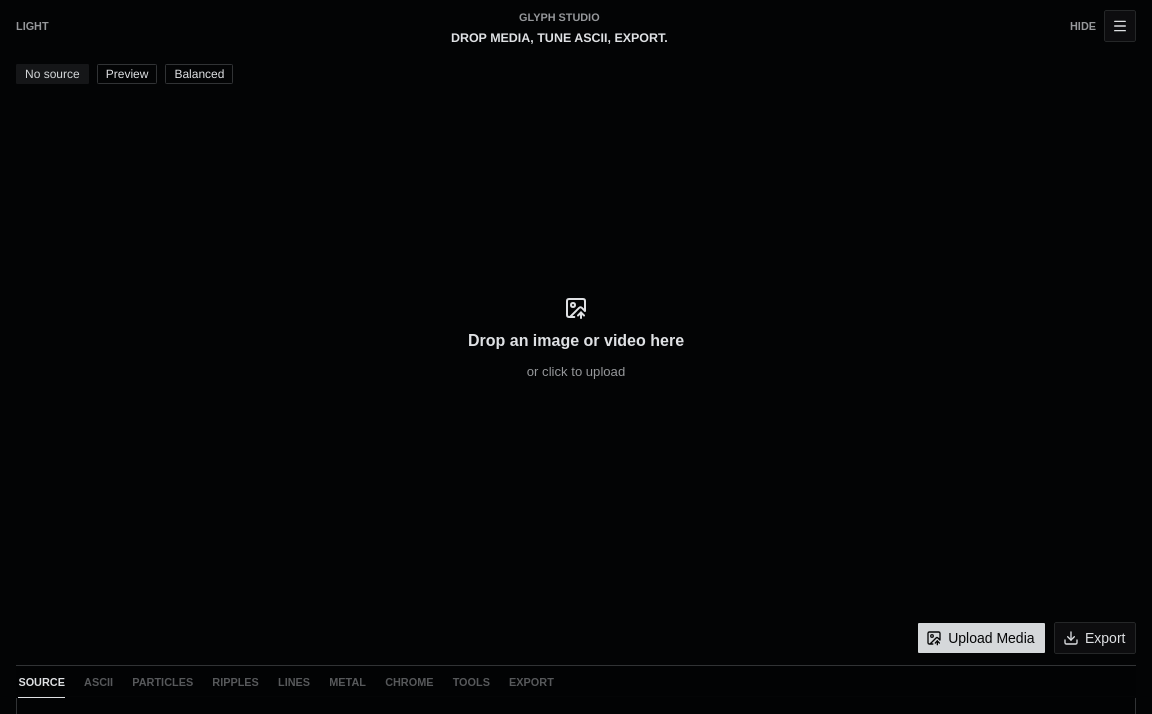
Test: Glyph Studio app shell › reveals and hides the inspector with focus mode
What coordinates should you click on to do the following:
click the button "HIDE"
I would click on:
 (1083, 26)
Its box is [1070,10,1096,42].
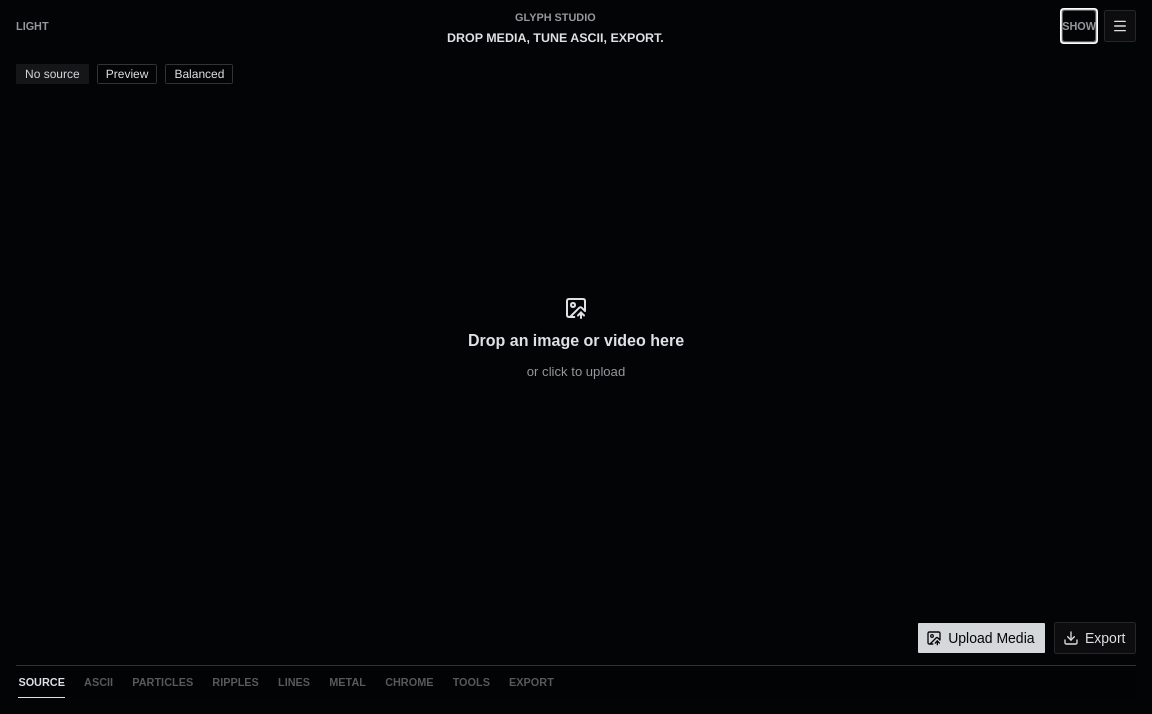
expect the button "SHOW" is shown: met
What coordinates should you click on to do the following:
click the button "SHOW"
I would click on:
 (1079, 26)
Its box is [1062,10,1096,42].
(page scrolled)
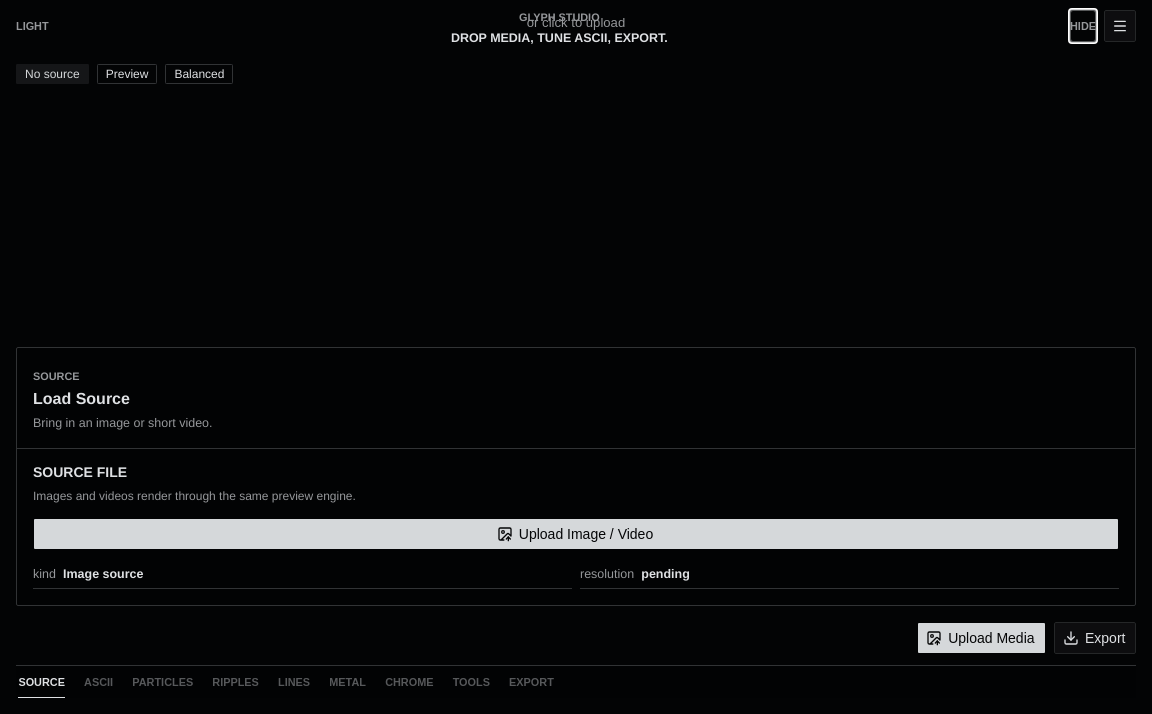
expect the element named "Load Source inspector" is shown: met, box [16,347,1136,606]
